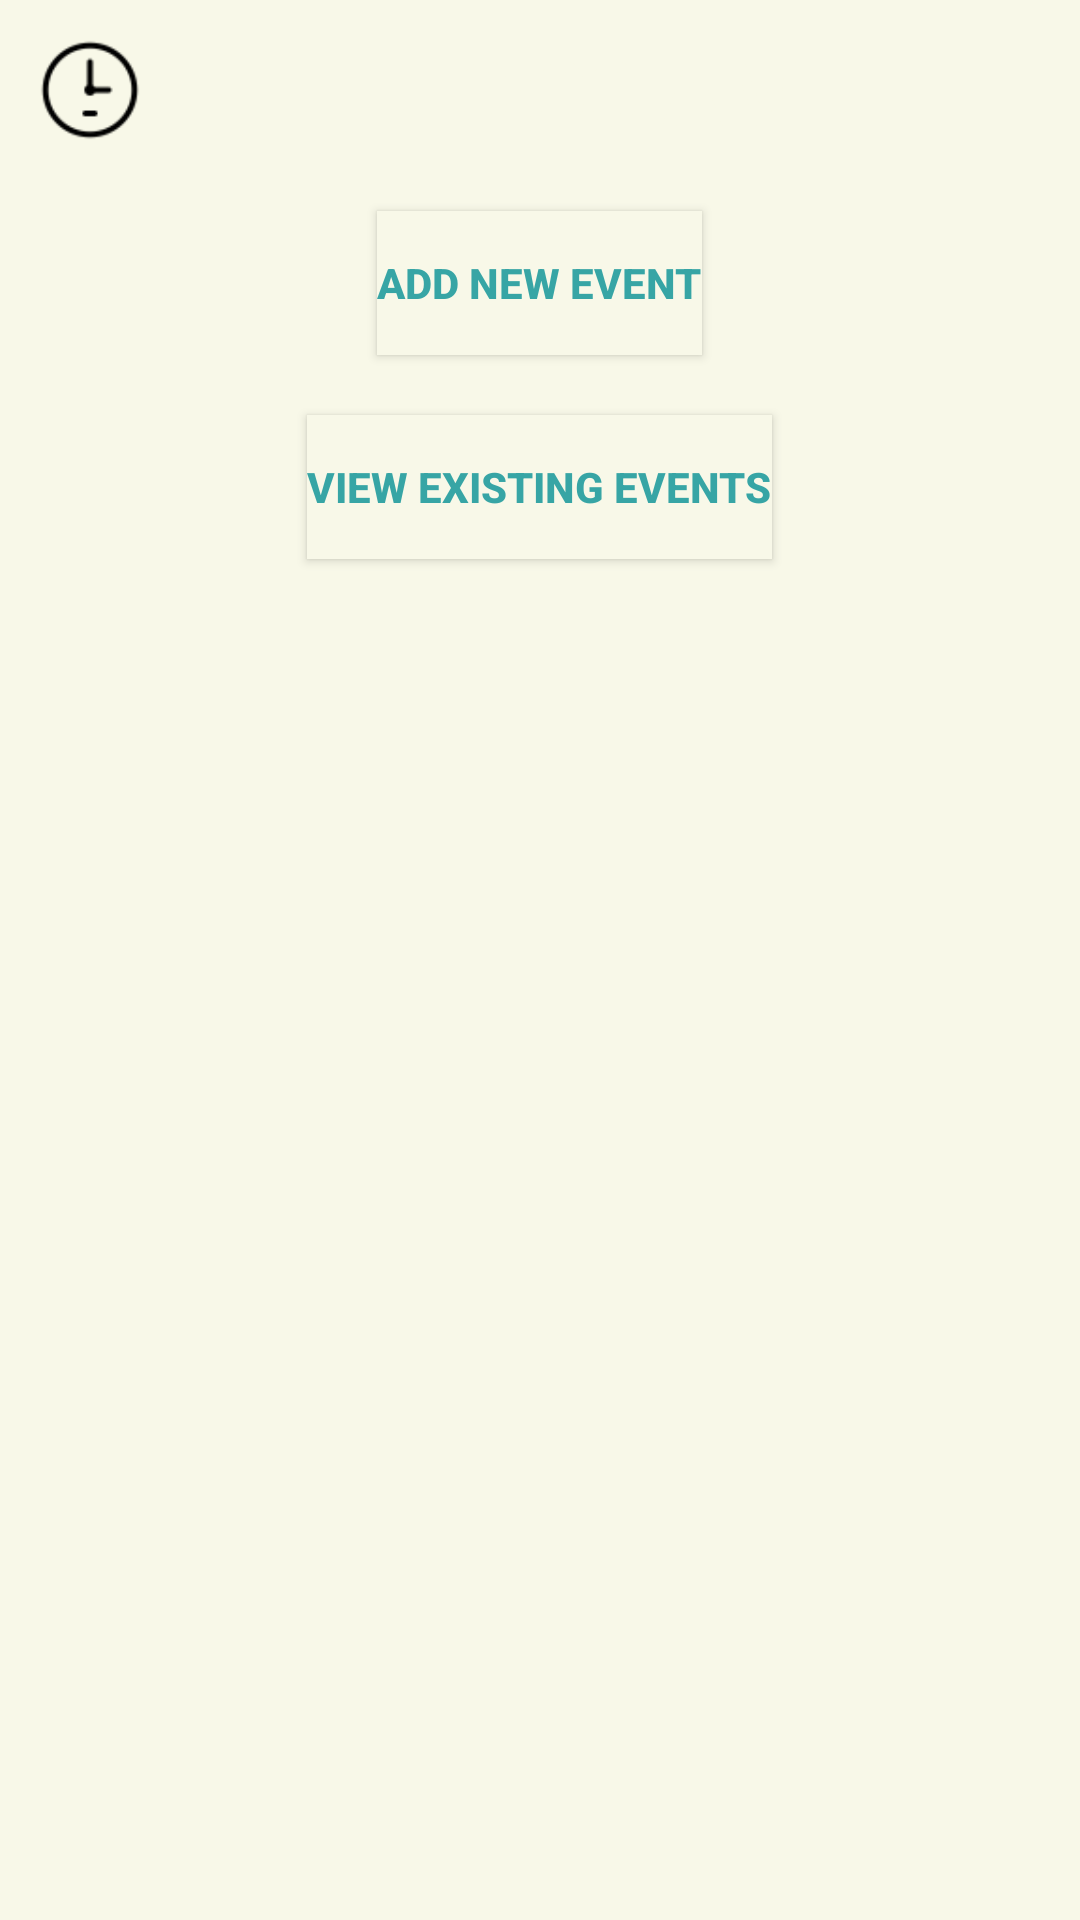

Where to tap for icons on this 1080×1920 app screen, as (x,y):
timeicon: (90,90)
